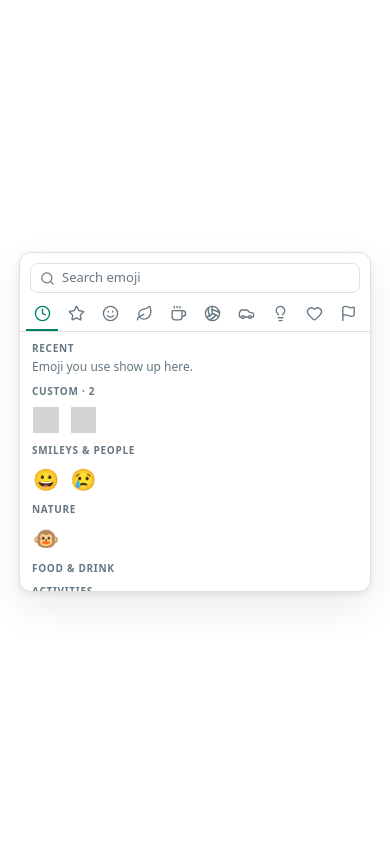
Test: EmojiPicker › search shows custom matches first, then standard; nothing found says so
The width and height of the screenshot is (390, 844).
Type "cry" into the search field labelled "Search emoji". click: (206, 278)
box: left=62, top=269, right=350, bottom=287
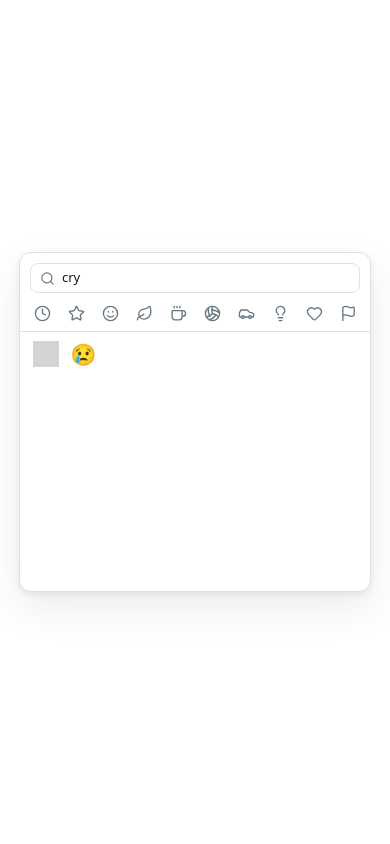
Expected: the heading "Nature" is gone
Replace the text in the search field named "Search emoji" with "xyz". click: (206, 278)
box: left=62, top=269, right=350, bottom=287
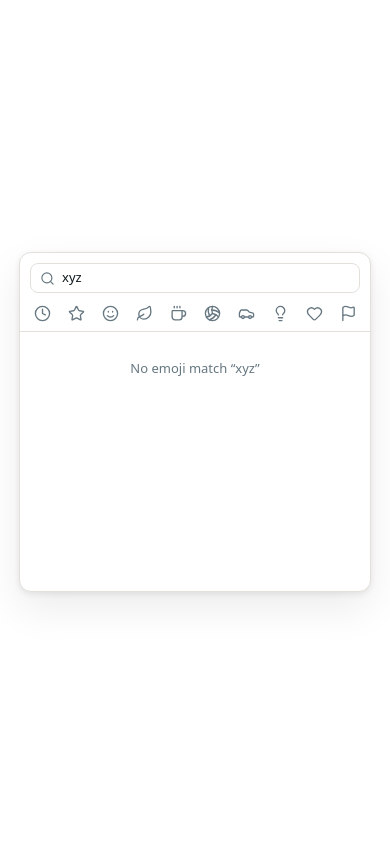
Expected: the text "No emoji match “xyz”" is shown, left=130, top=359, right=260, bottom=377
